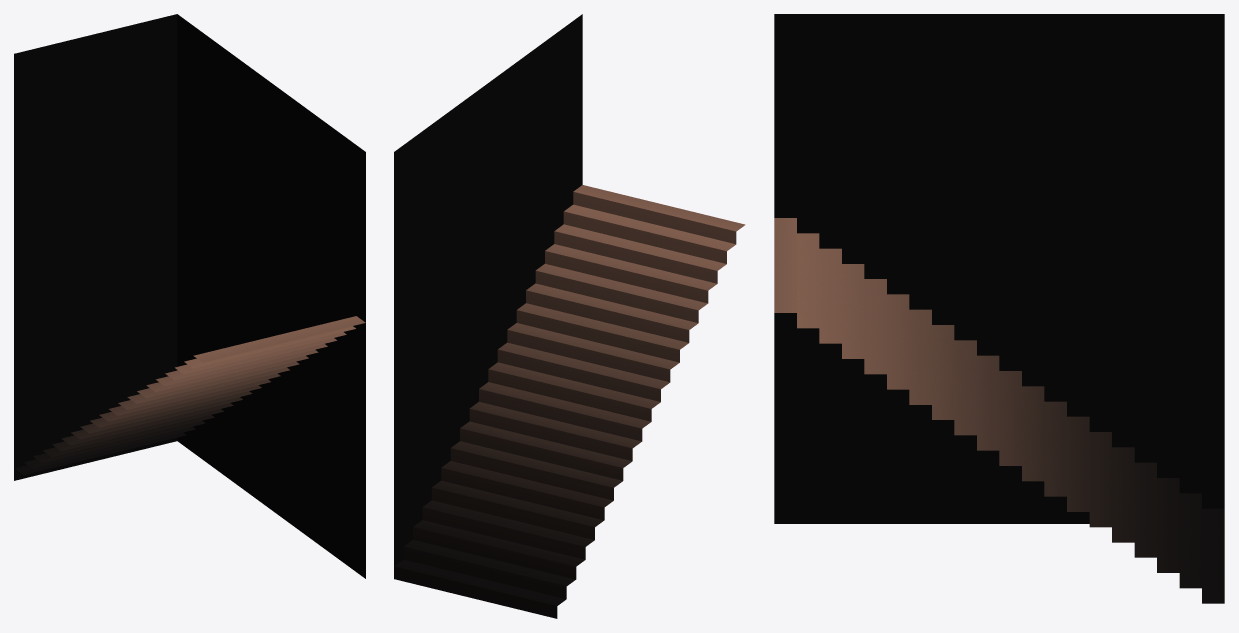
File: StairsDown.glb
3 views of the same model, side by side, from view 1: azimuth 30°, elevation 25°; view 2: azimuth 150°, elevation 25°; view 3: azimuth 270°, elevation 25° (orthographic). The views are drawn at different scales.
Visible parts, largest first — view 1: Stairs; view 2: Stairs; view 3: Stairs.
Part boxes in pixels (x1,y1,x2,y2): Stairs: (14, 14, 365, 578); Stairs: (394, 14, 745, 618); Stairs: (774, 14, 1224, 603).
Size of the model in its own units: 1 by 2.5 by 2.
Materials: 3 (1 with a texture image).
